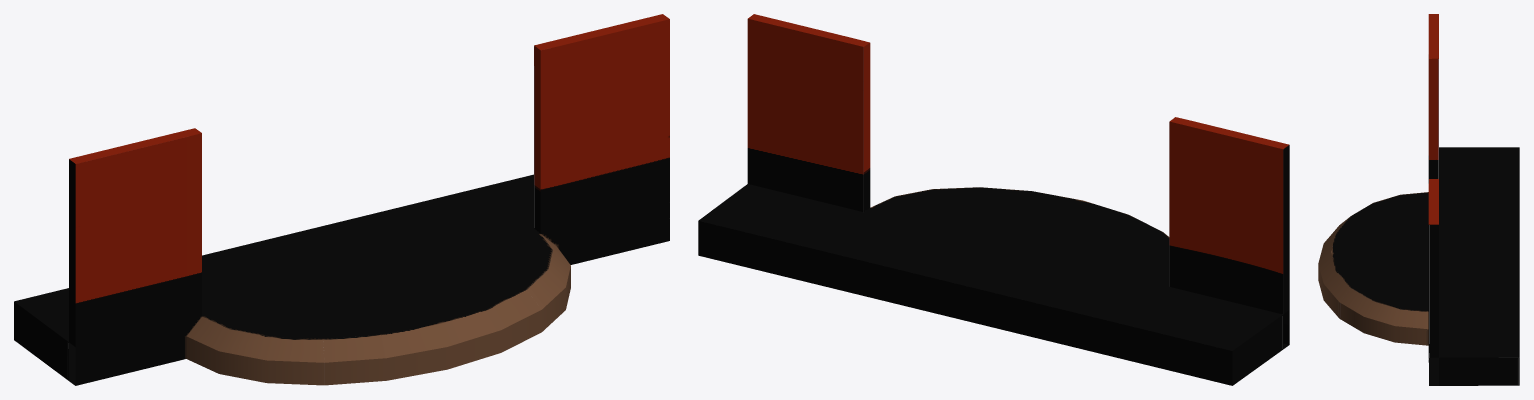
The model's file is floor.obj.
The picture shows the model from 3 angles, left to right: view 1: azimuth 30°, elevation 25°; view 2: azimuth 150°, elevation 25°; view 3: azimuth 270°, elevation 25°; orthographic projection. The views are drawn at different scales.
Visible parts, largest first — view 1: pCylinder1_pCylinder1SG; view 2: pCylinder1_pCylinder1SG; view 3: pCylinder1_pCylinder1SG.
Boxes of the visible parts, x1=… form: pCylinder1_pCylinder1SG: x1=14, y1=14, x2=669, y2=385; pCylinder1_pCylinder1SG: x1=698, y1=14, x2=1289, y2=385; pCylinder1_pCylinder1SG: x1=1318, y1=14, x2=1519, y2=385.
Bounding box in the file's own units: 1268 × 453 × 512.
1 material, 1 textured.
